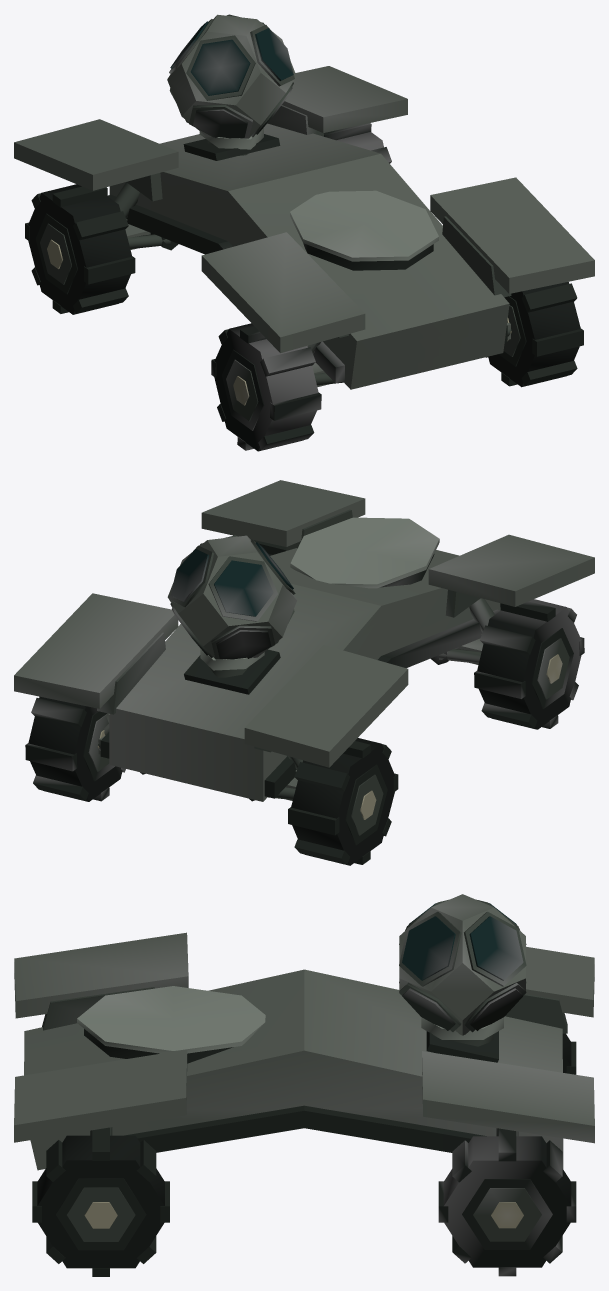
3 renders of one model, top to bottom at view 1: azimuth 30°, elevation 25°; view 2: azimuth 150°, elevation 25°; view 3: azimuth 270°, elevation 25°, orthographic. The views are drawn at different scales.
Parts seen in each view (by area): view 1: XB12_STATIC; view 2: XB12_STATIC; view 3: XB12_STATIC.
Boxes of the visible parts, x1=… form: XB12_STATIC: x1=14, y1=14, x2=594, y2=451; XB12_STATIC: x1=14, y1=480, x2=594, y2=865; XB12_STATIC: x1=14, y1=894, x2=594, y2=1276.
Bounding box in the file's own units: 2.89 × 2.3 × 4.22.
